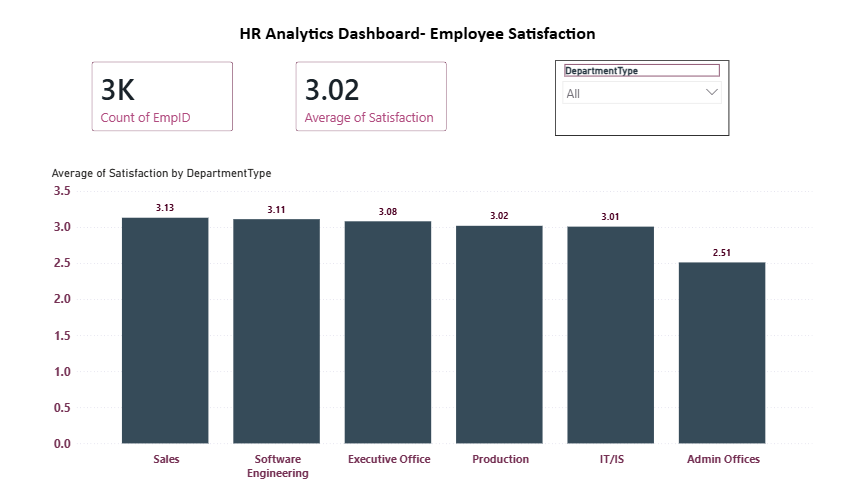

This screenshot's page, from the dashboard's own definition file:
{"tool":"powerbi","page":{"name":"Satisfaction","canvas":[1280,720],"ordinal":1},"visuals":[{"type":"cardVisual","fields":{"Data":["CountNonNull(employee_engagement_survey_data.EmpID)"]},"box":[124.3,84,241.9,136.1],"z":0},{"type":"cardVisual","fields":{"Data":["Avg(employee_engagement_survey_data.Satisfaction)"]},"box":[423.3,84,255.3,136.1],"z":1000},{"type":"clusteredColumnChart","fields":{"Y":["Avg(employee_engagement_survey_data.Satisfaction)"],"Category":["employee_data.DepartmentType"]},"box":[77.3,253.6,1123.8,467],"z":1001},{"type":"slicer","fields":{"Values":["employee_data.DepartmentType"]},"box":[819.7,97.4,255.3,110.9],"z":1002},{"type":"textbox","box":[352.8,37,613.1,47],"z":1003}]}

Visuals, with their boxes in screenshot pixels (x1, y1, x2, y2), scaled from the page's 1280x720 canvas onto the 846x482 screenshot:
cardVisual - CountNonNull(employee_engagement_survey_data.EmpID): [82,56,242,147]
cardVisual - Avg(employee_engagement_survey_data.Satisfaction): [280,56,449,147]
clusteredColumnChart - Avg(employee_engagement_survey_data.Satisfaction) x employee_data.DepartmentType: [51,170,794,481]
slicer - employee_data.DepartmentType: [542,65,711,139]
textbox: [233,25,638,56]
